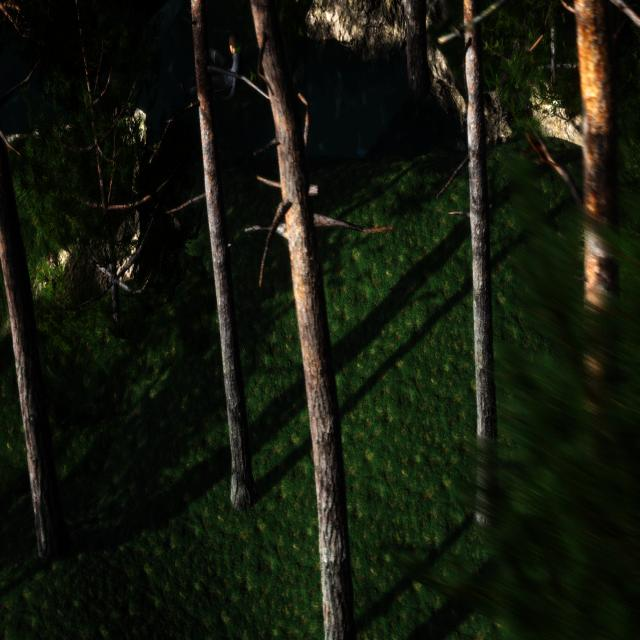Human: (208, 32, 243, 107)
